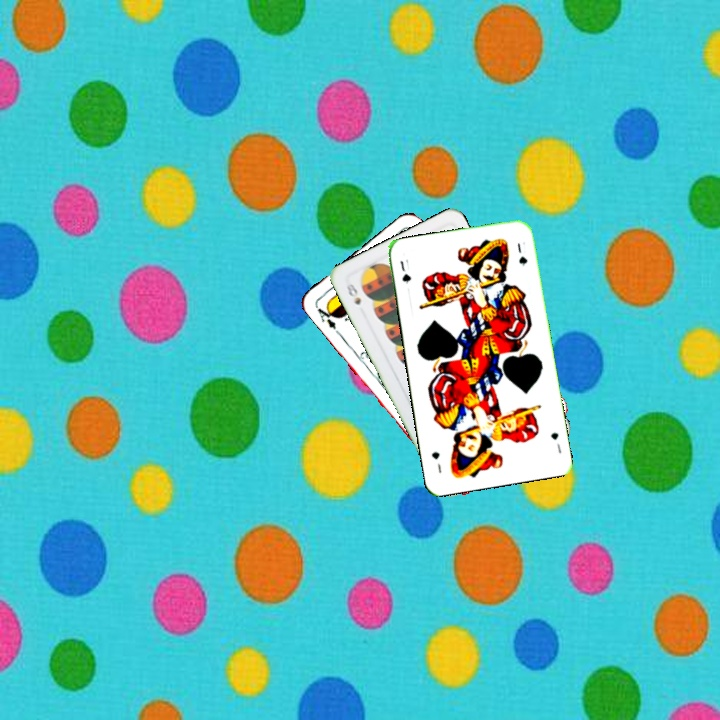EA: (312, 302, 339, 332)
GU: (396, 255, 414, 286), (547, 428, 564, 456)
S8: (342, 280, 364, 308)
